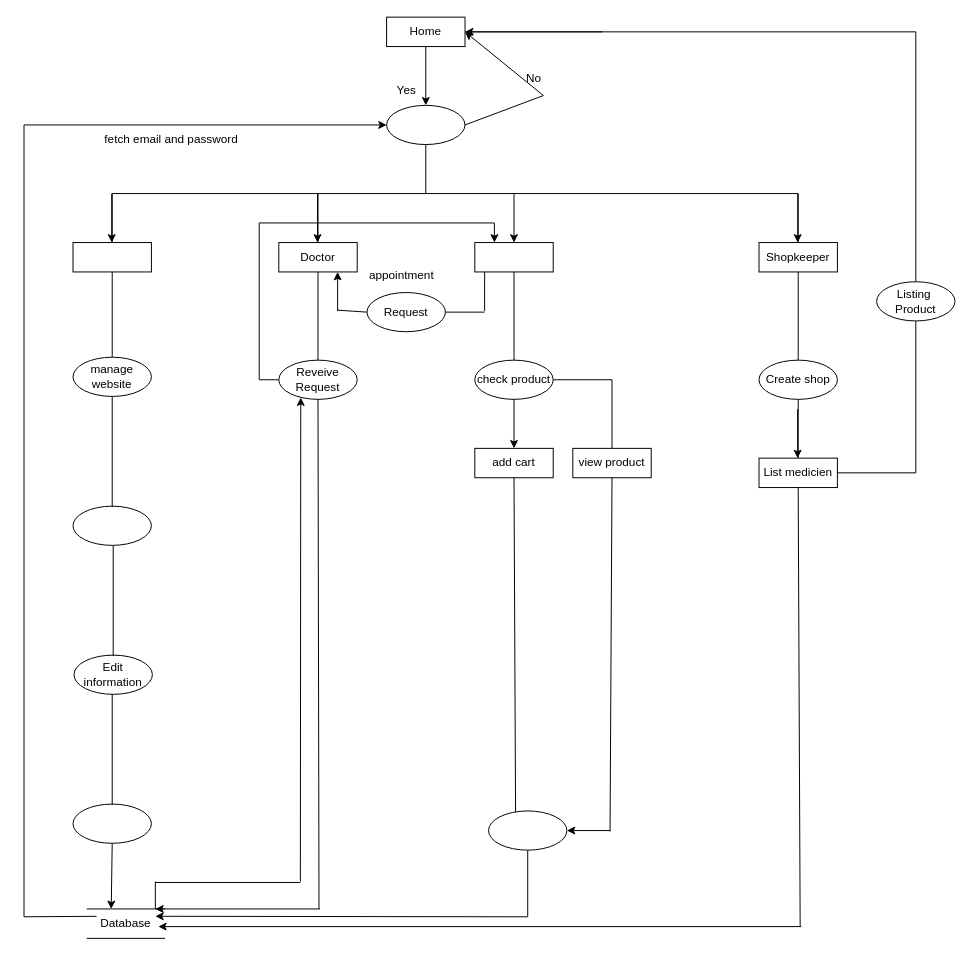
This 972x956 diagram has some shape labels left out. Each missing label, with the centre of its shape:
Admin: (x=111, y=257)
Log in: (x=425, y=124)
Order: (x=527, y=830)
Payment status: (x=111, y=823)
Update Website: (x=111, y=525)
User: (x=513, y=257)
